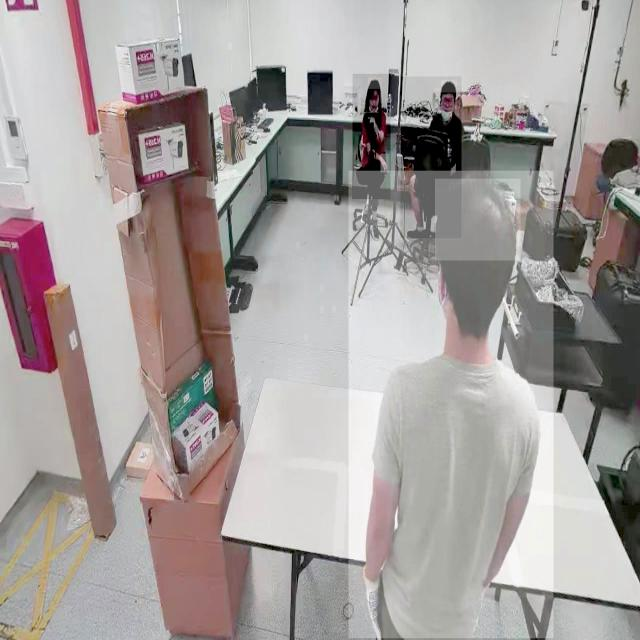hand_noglove: (380, 154, 390, 173)
head_nohelmet: (434, 179, 520, 261), (441, 80, 457, 93), (368, 77, 382, 90)
person: (348, 171, 554, 639), (401, 76, 462, 238), (352, 74, 390, 199)
shoes: (368, 210, 384, 244), (405, 222, 427, 243), (359, 196, 373, 224)
